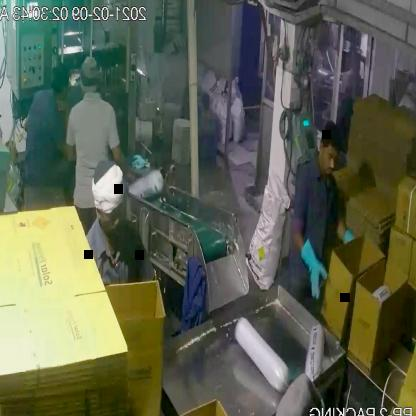glove: (297, 234, 330, 304)
no_glove: (107, 136, 142, 186)
